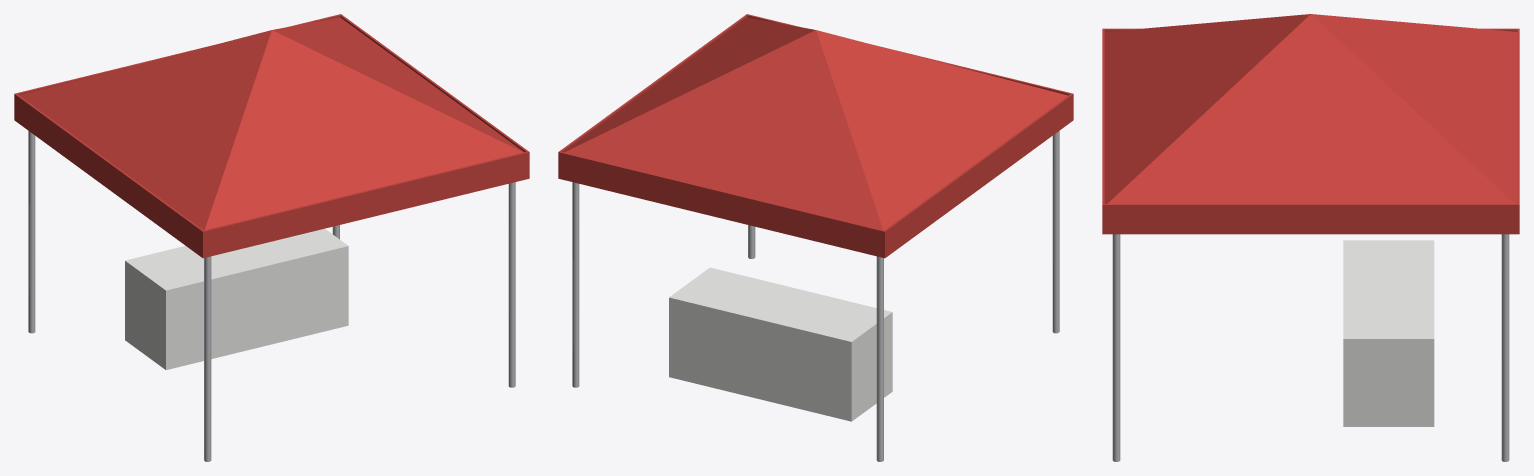
File: SM_Gazebo_Red.fbx
3 renders of one model, left to right at view 1: azimuth 30°, elevation 25°; view 2: azimuth 150°, elevation 25°; view 3: azimuth 270°, elevation 25°, orthographic. The views are drawn at different scales.
Visible parts, largest first — view 1: SM_Gazebo_Red; view 2: SM_Gazebo_Red; view 3: SM_Gazebo_Red.
Part boxes in pixels (bbox=[...]): SM_Gazebo_Red: bbox=[14, 14, 529, 461]; SM_Gazebo_Red: bbox=[558, 14, 1073, 461]; SM_Gazebo_Red: bbox=[1102, 14, 1519, 461].
Bounding box in the file's own units: 322 × 310 × 322.
